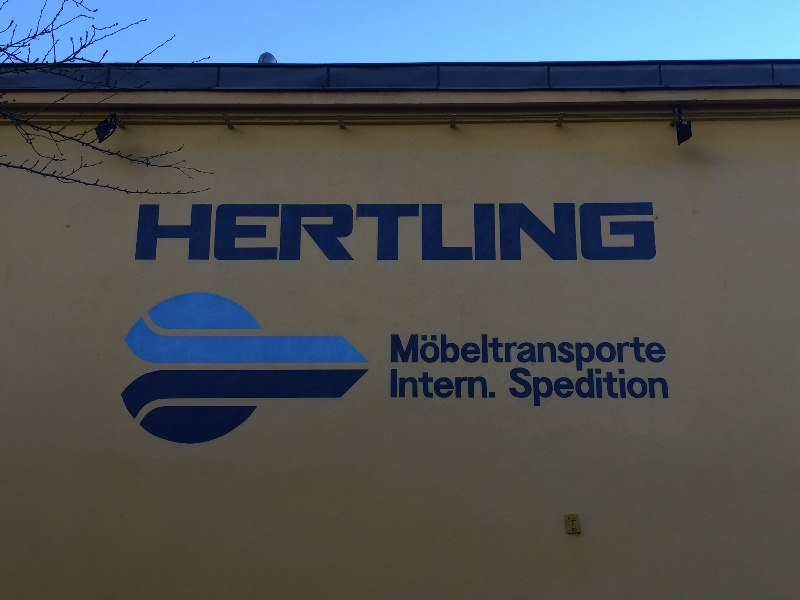text: (145, 202, 160, 264), (161, 202, 176, 264), (177, 202, 192, 264), (193, 202, 208, 264), (209, 202, 224, 264), (225, 202, 240, 264), (241, 202, 256, 264), (257, 202, 272, 264), (273, 202, 288, 264), (289, 202, 304, 264), (305, 202, 320, 264), (321, 202, 336, 264), (337, 202, 352, 264), (353, 202, 368, 264), (369, 202, 384, 264), (385, 202, 400, 264), (401, 202, 416, 264), (417, 202, 432, 264), (433, 202, 448, 264), (449, 202, 464, 264), (465, 202, 480, 264), (481, 202, 496, 264), (497, 202, 512, 264), (513, 202, 528, 264), (529, 202, 544, 264), (545, 202, 560, 264), (561, 202, 576, 264), (577, 202, 592, 264), (593, 202, 608, 264), (609, 202, 624, 264), (625, 202, 640, 264), (641, 202, 656, 264), (513, 367, 528, 409), (529, 367, 544, 409), (545, 367, 560, 409), (561, 367, 576, 409), (577, 367, 592, 409), (593, 367, 608, 409), (609, 367, 624, 409), (625, 367, 640, 409), (641, 367, 656, 409), (401, 333, 416, 374), (417, 333, 432, 374), (433, 333, 448, 374), (449, 333, 464, 374), (465, 333, 480, 374), (481, 333, 496, 374), (497, 333, 512, 374), (513, 333, 528, 374), (529, 333, 544, 374), (545, 333, 560, 374), (561, 333, 576, 374), (577, 333, 592, 374), (593, 333, 608, 374), (609, 333, 624, 374), (625, 333, 640, 374), (641, 333, 656, 374), (657, 367, 669, 409), (657, 333, 668, 374), (401, 369, 416, 399), (417, 369, 432, 399), (433, 369, 448, 399), (449, 369, 464, 399), (465, 369, 480, 399), (481, 369, 495, 399), (391, 333, 400, 374), (391, 369, 400, 399), (140, 202, 144, 264), (510, 367, 512, 409), (657, 202, 658, 264)
